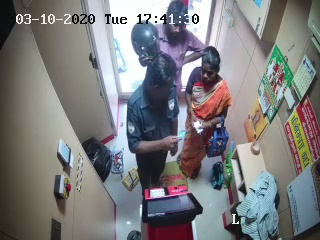helmet: (124, 13, 165, 59)
